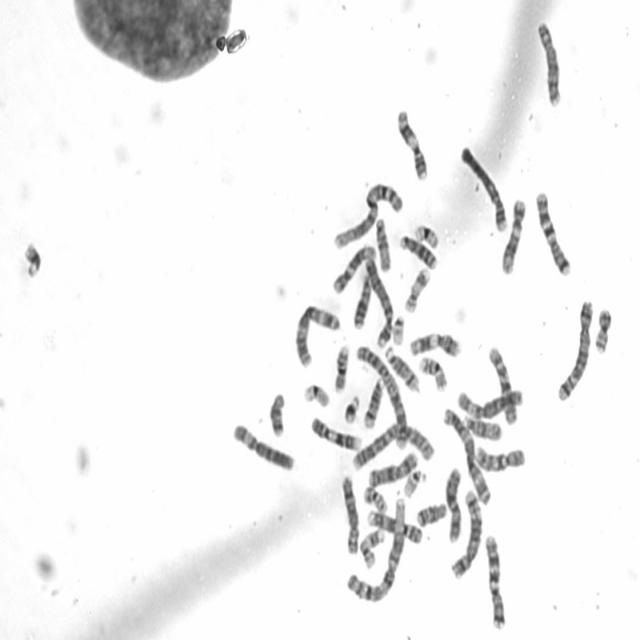A1: (346, 495, 406, 604), (334, 182, 404, 250)
A2: (357, 343, 408, 450), (352, 421, 435, 473)
A3: (440, 408, 493, 506), (294, 303, 341, 369)
B4: (461, 144, 508, 232), (364, 256, 397, 348)
B5: (556, 301, 594, 402), (448, 488, 483, 580)
C10: (487, 344, 519, 427), (473, 446, 528, 473)
C11: (395, 106, 430, 184), (408, 333, 463, 357)
C12: (330, 245, 377, 296), (499, 198, 526, 277)
C6: (232, 422, 296, 474), (457, 388, 524, 424)
C7: (534, 190, 574, 280), (484, 534, 507, 630)
C8: (532, 20, 562, 110), (339, 474, 360, 556)
C9: (367, 508, 423, 544), (310, 415, 363, 453)
D13: (399, 232, 438, 272), (352, 271, 373, 332)
D14: (384, 346, 420, 395), (362, 377, 385, 430)
D15: (462, 412, 503, 442), (373, 218, 393, 276)
E16: (419, 356, 449, 394), (333, 342, 351, 396)
E17: (403, 266, 432, 314), (359, 528, 384, 570)
E18: (415, 502, 447, 530), (268, 392, 287, 438)
F19: (303, 382, 331, 412), (412, 224, 441, 252)
F20: (594, 306, 614, 355), (363, 485, 388, 515)
G21: (18, 240, 46, 282), (342, 393, 361, 426)
G22: (403, 469, 427, 499), (391, 315, 406, 347)
X: (368, 451, 419, 487), (444, 464, 462, 543)
